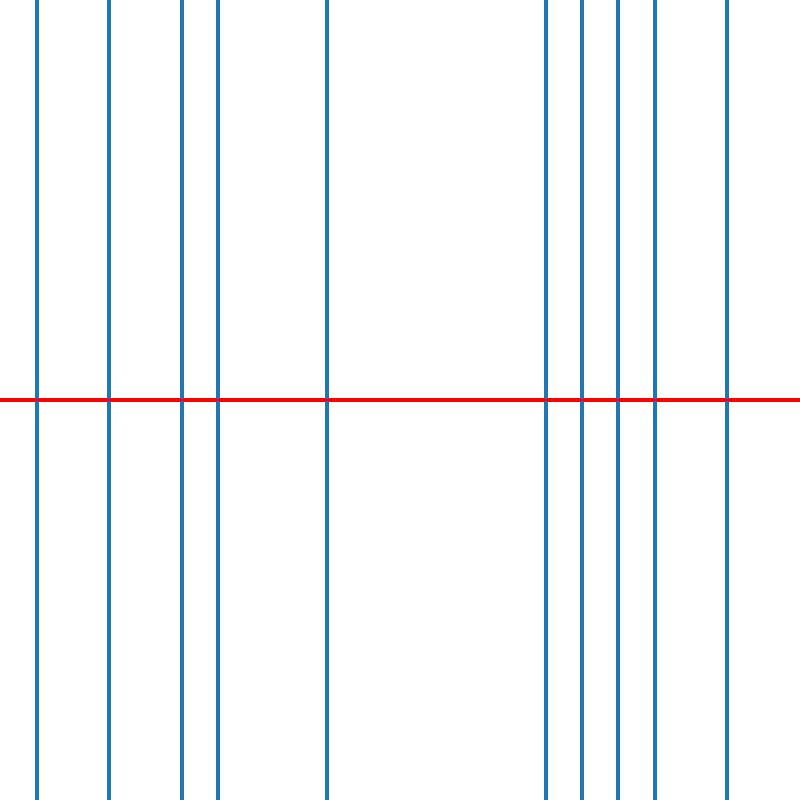root: (541, 396, 549, 404), (650, 396, 658, 404), (32, 396, 40, 404), (723, 396, 730, 404), (323, 396, 330, 404), (178, 396, 185, 404), (105, 396, 112, 404), (614, 396, 621, 404), (214, 396, 221, 404), (578, 396, 585, 404)
